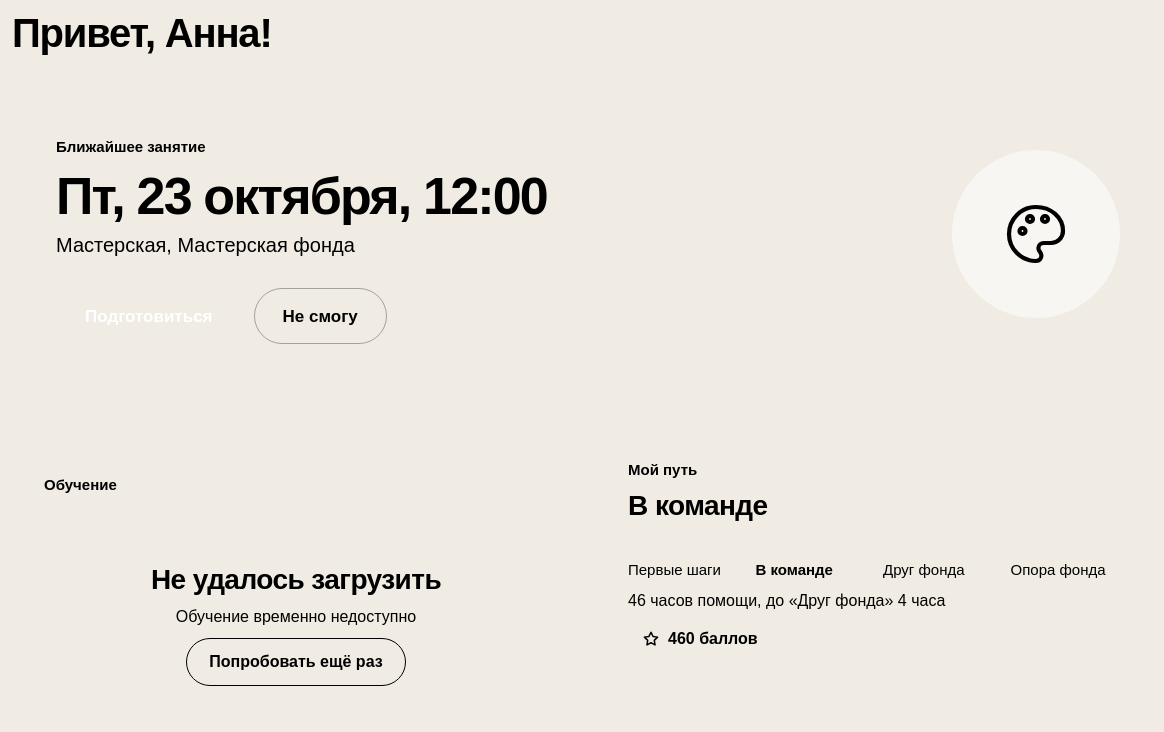
volunteer home › retains the hero when learning fails and retries only the failed read
Expected: the text "Обучение временно недоступно" is shown, [176,608,416,626]
Expected: the link "Подготовиться" is shown, [85,307,212,326]
Click the button "Попробовать ещё раз" at (296, 662), box [186,638,406,686]
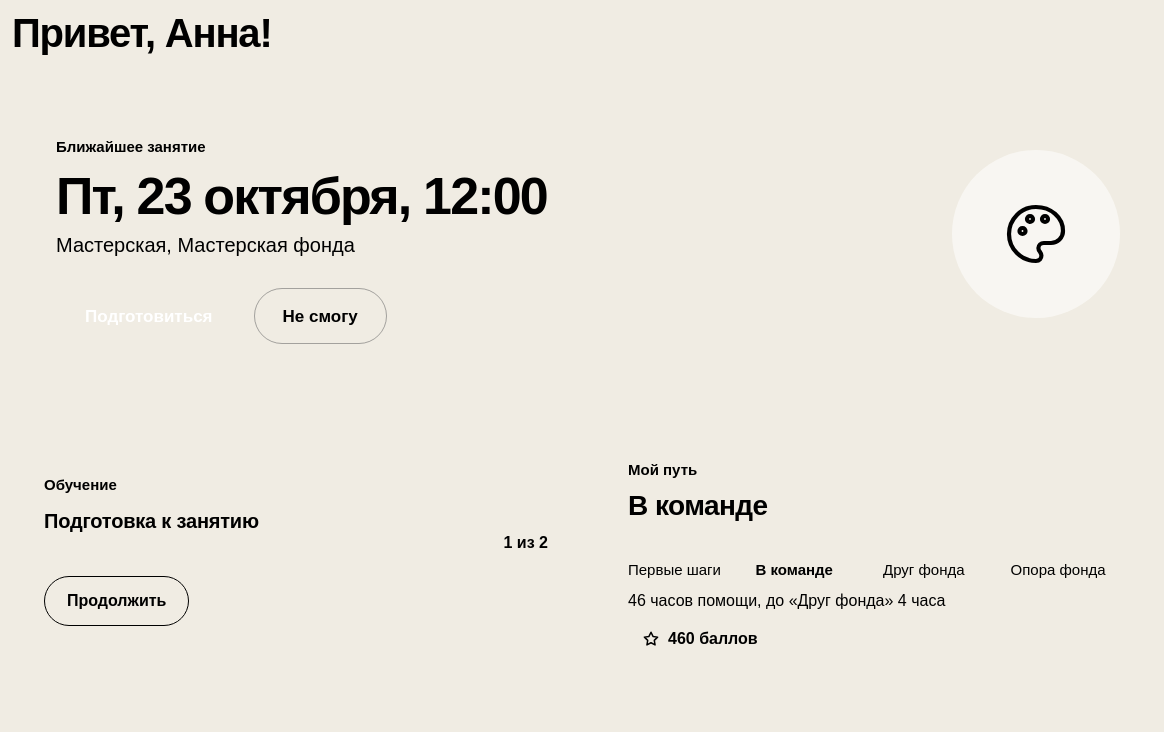
Expected: the text "Обучение временно недоступно" is gone
Expected: the link "Продолжить" is shown, [44,576,189,626]
